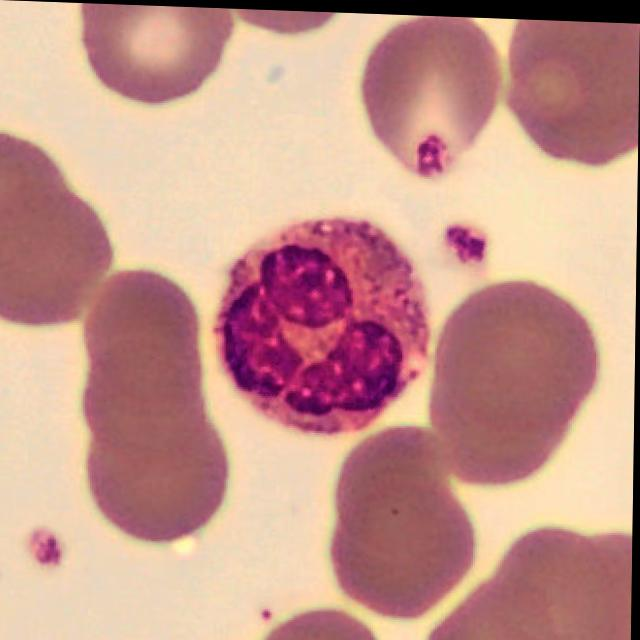Neutrofilo segmentado: (215, 215, 430, 435)
